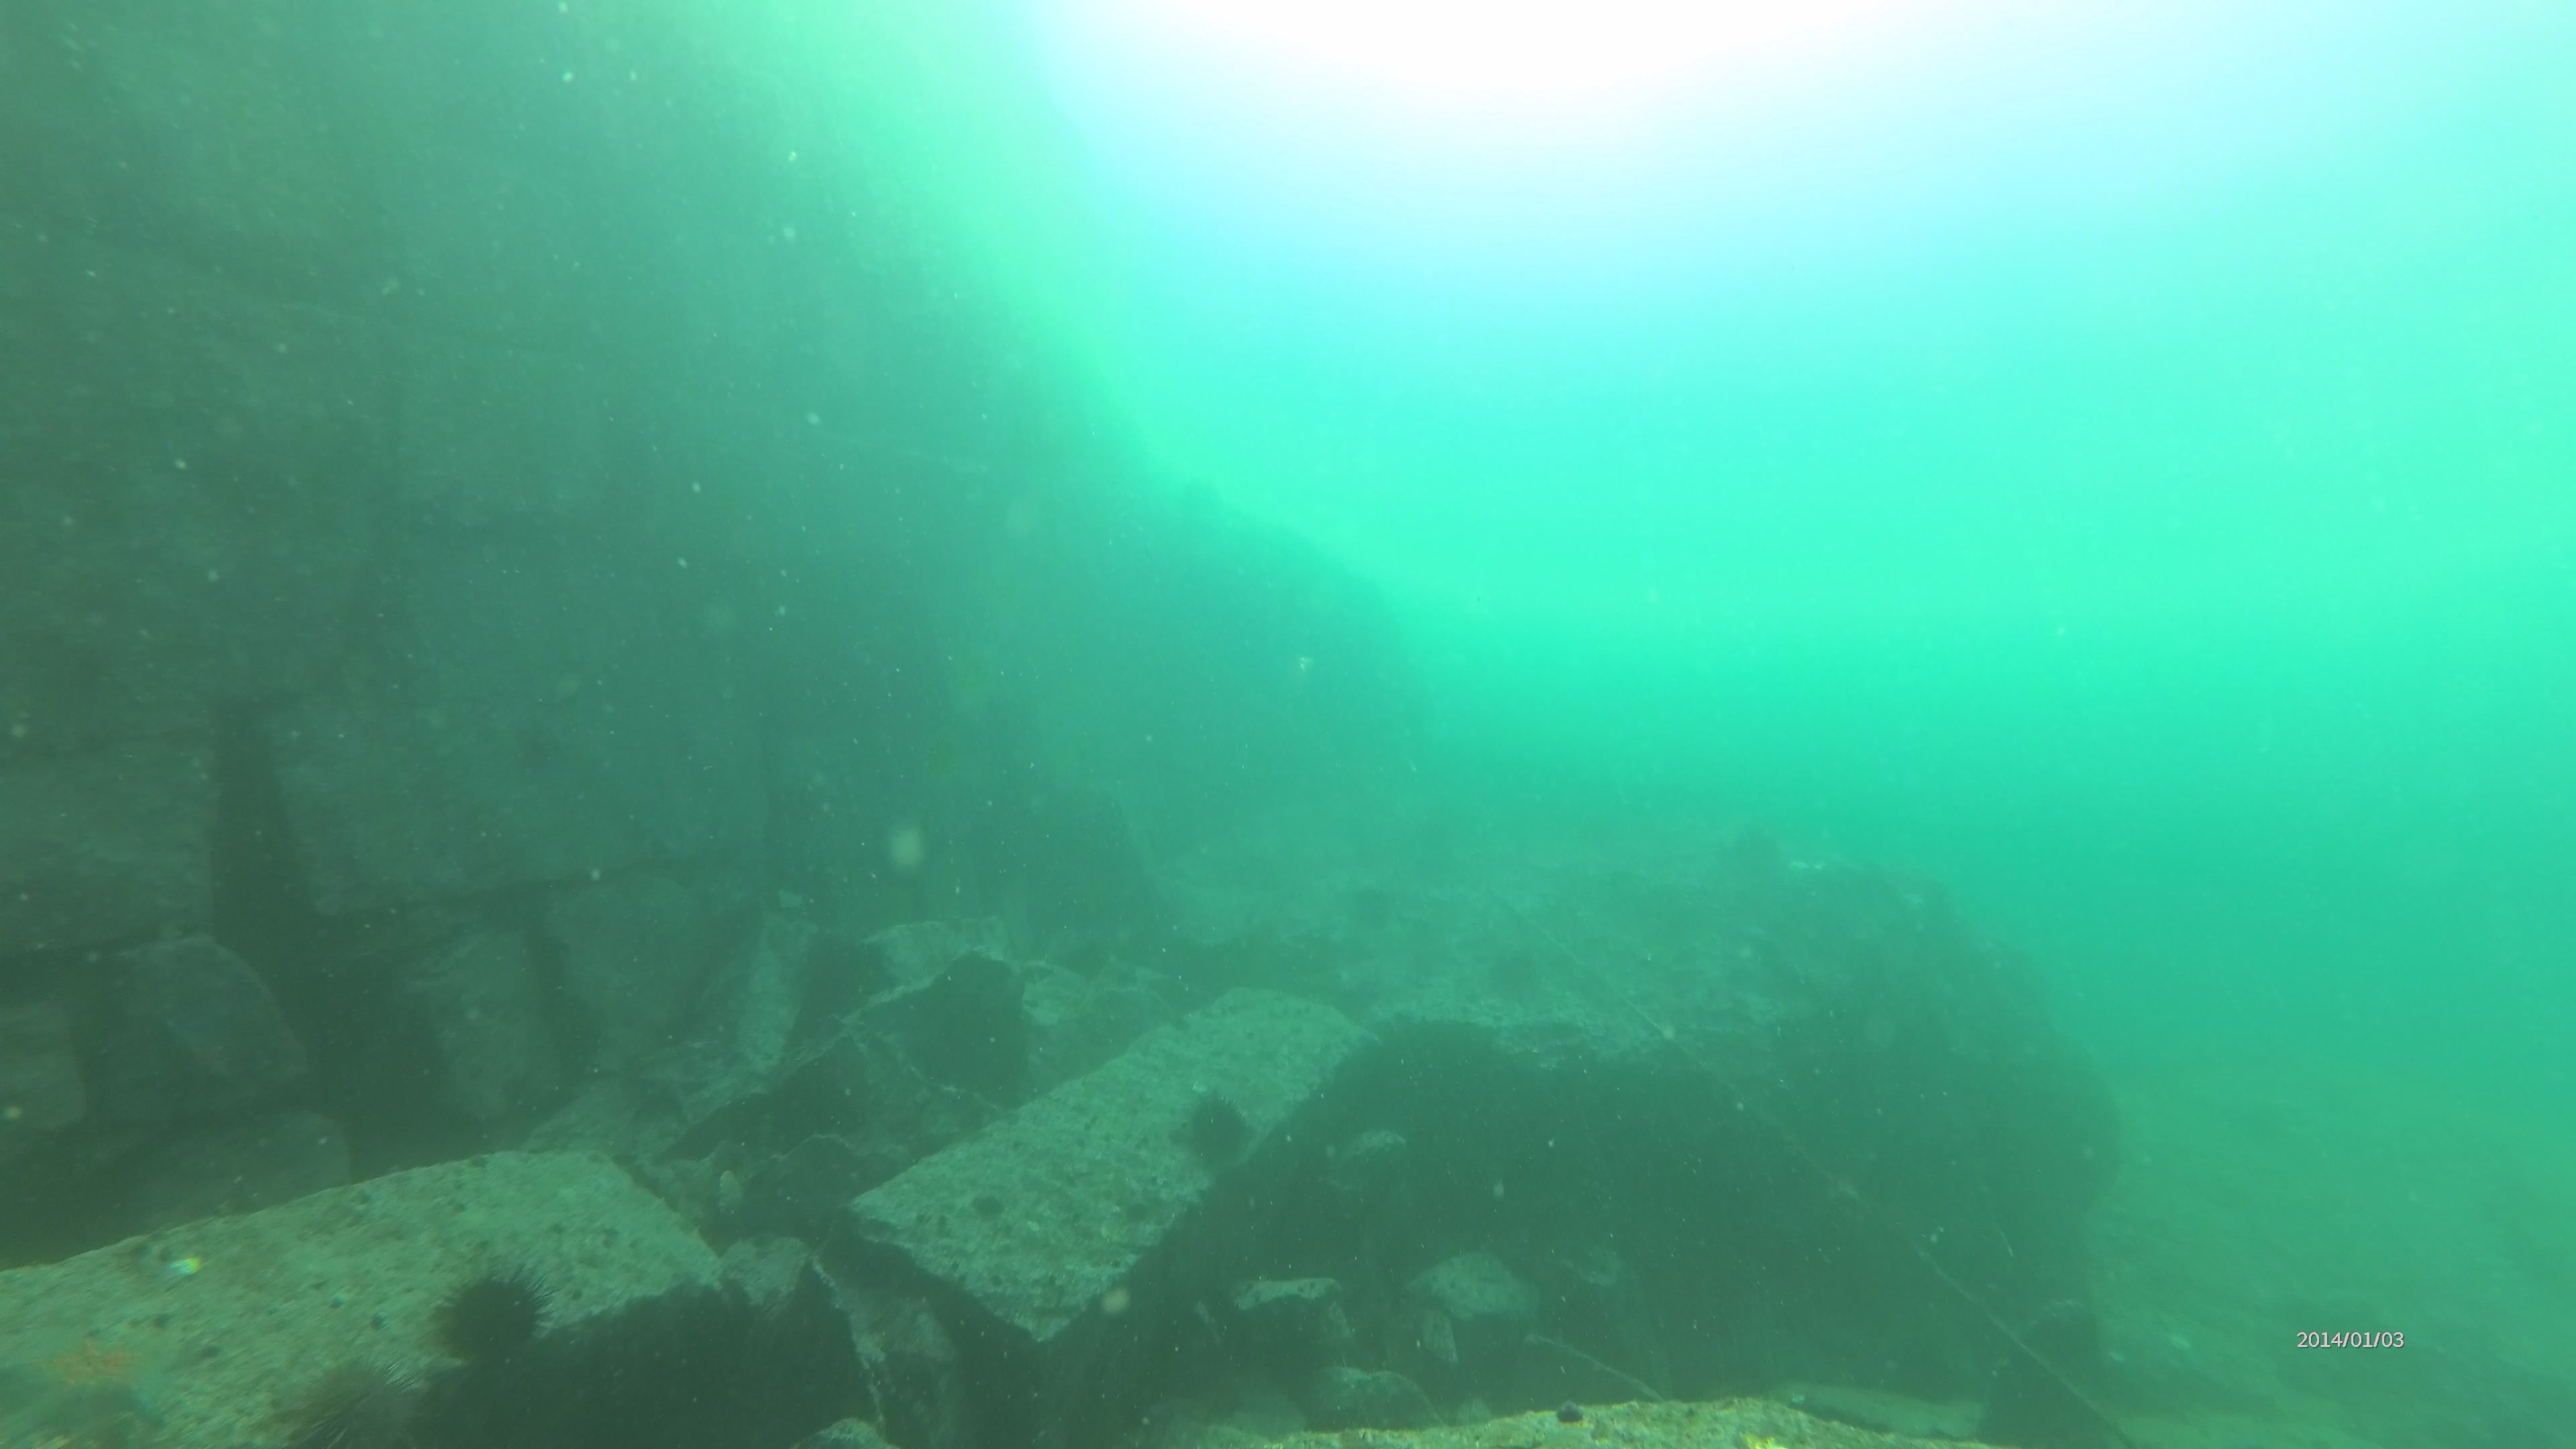echinus: (414, 1269, 556, 1371), (283, 1361, 430, 1449), (1177, 1088, 1270, 1171), (1490, 945, 1552, 1007)
starfish: (0, 1313, 188, 1444)
